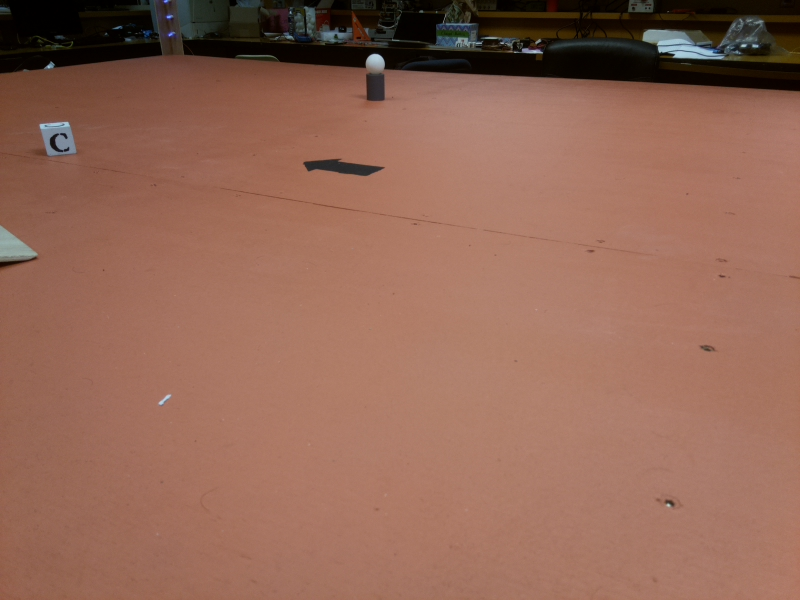blockC: (38, 120, 81, 158)
obstacle: (363, 53, 390, 104)
slope: (1, 222, 47, 269)
start: (302, 155, 388, 176)
